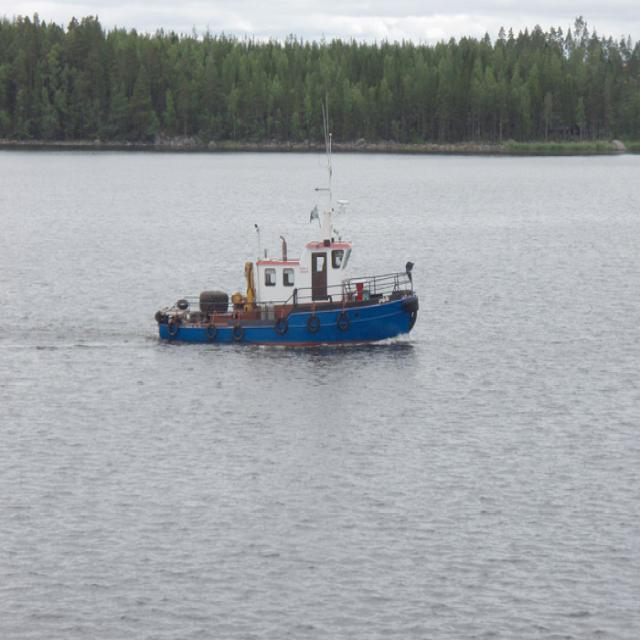fishing boat: (153, 204, 418, 346)
